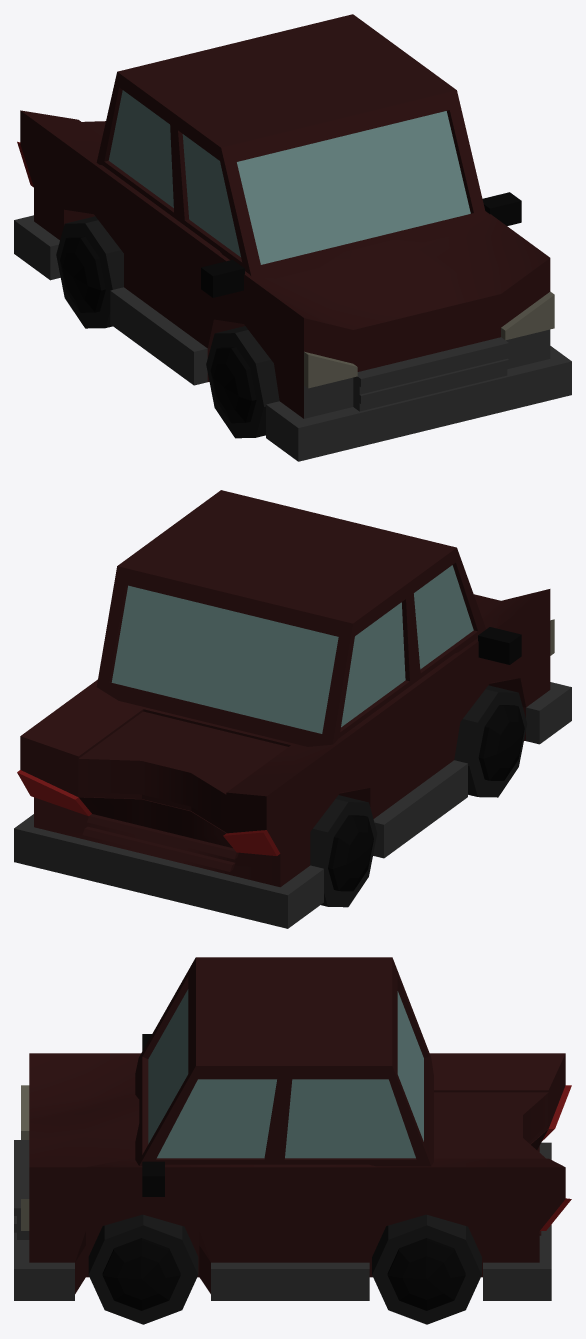
The model's file is Carro.obj.
3 renders of one model, top to bottom at view 1: azimuth 30°, elevation 25°; view 2: azimuth 150°, elevation 25°; view 3: azimuth 270°, elevation 25°, orthographic. The views are drawn at different scales.
Parts seen in each view (by area): view 1: pCube4; view 2: pCube4; view 3: pCube4.
Part boxes in pixels (<box>): pCube4: <box>14,14,571,461</box>; pCube4: <box>14,490,571,928</box>; pCube4: <box>14,957,571,1324</box>.
Size of the model in its own units: 14.87 by 12.28 by 24.6.
